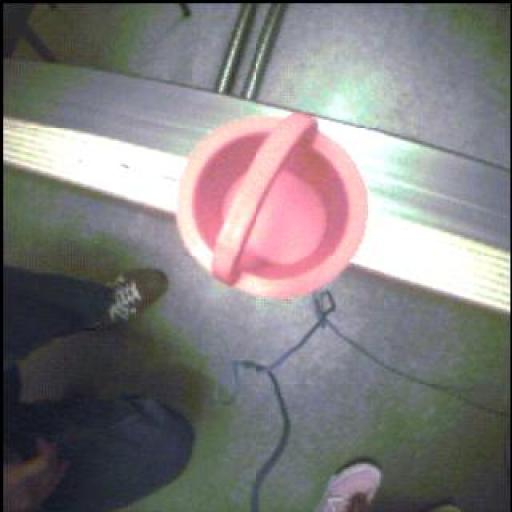Bucket: (160, 102, 377, 303)
